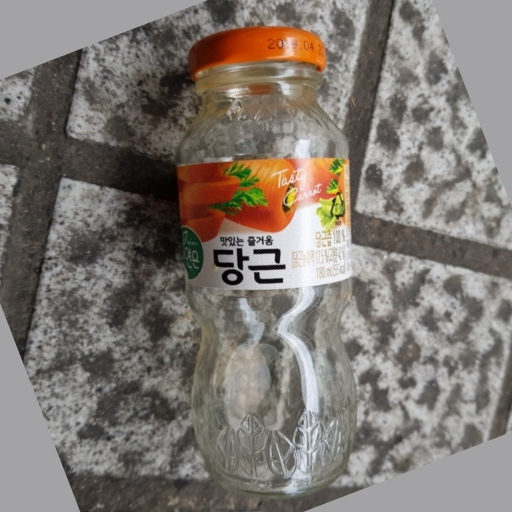Glass_4: (176, 23, 357, 497)
